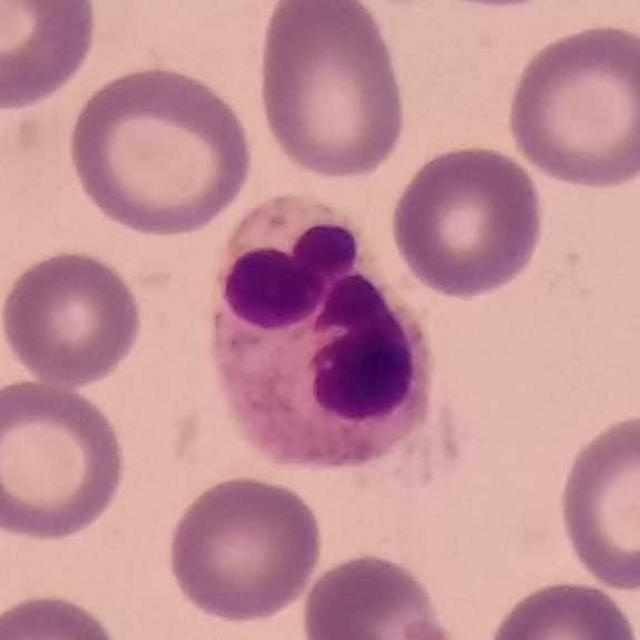Neutrophil: (199, 193, 444, 481)
RBC: (62, 60, 258, 239), (250, 0, 411, 184), (388, 139, 546, 302), (163, 471, 326, 626), (501, 19, 640, 192), (0, 375, 131, 544), (0, 245, 148, 389), (552, 407, 640, 596), (296, 546, 458, 640), (0, 0, 102, 112), (482, 575, 640, 640), (0, 587, 128, 640)
